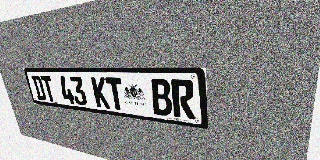3: (69, 76, 88, 106)
4: (58, 76, 75, 104)
B: (150, 79, 173, 117)
D: (31, 75, 47, 101)
K: (91, 77, 110, 109)
R: (171, 79, 195, 120)
T: (105, 77, 126, 111), (40, 76, 57, 102)
